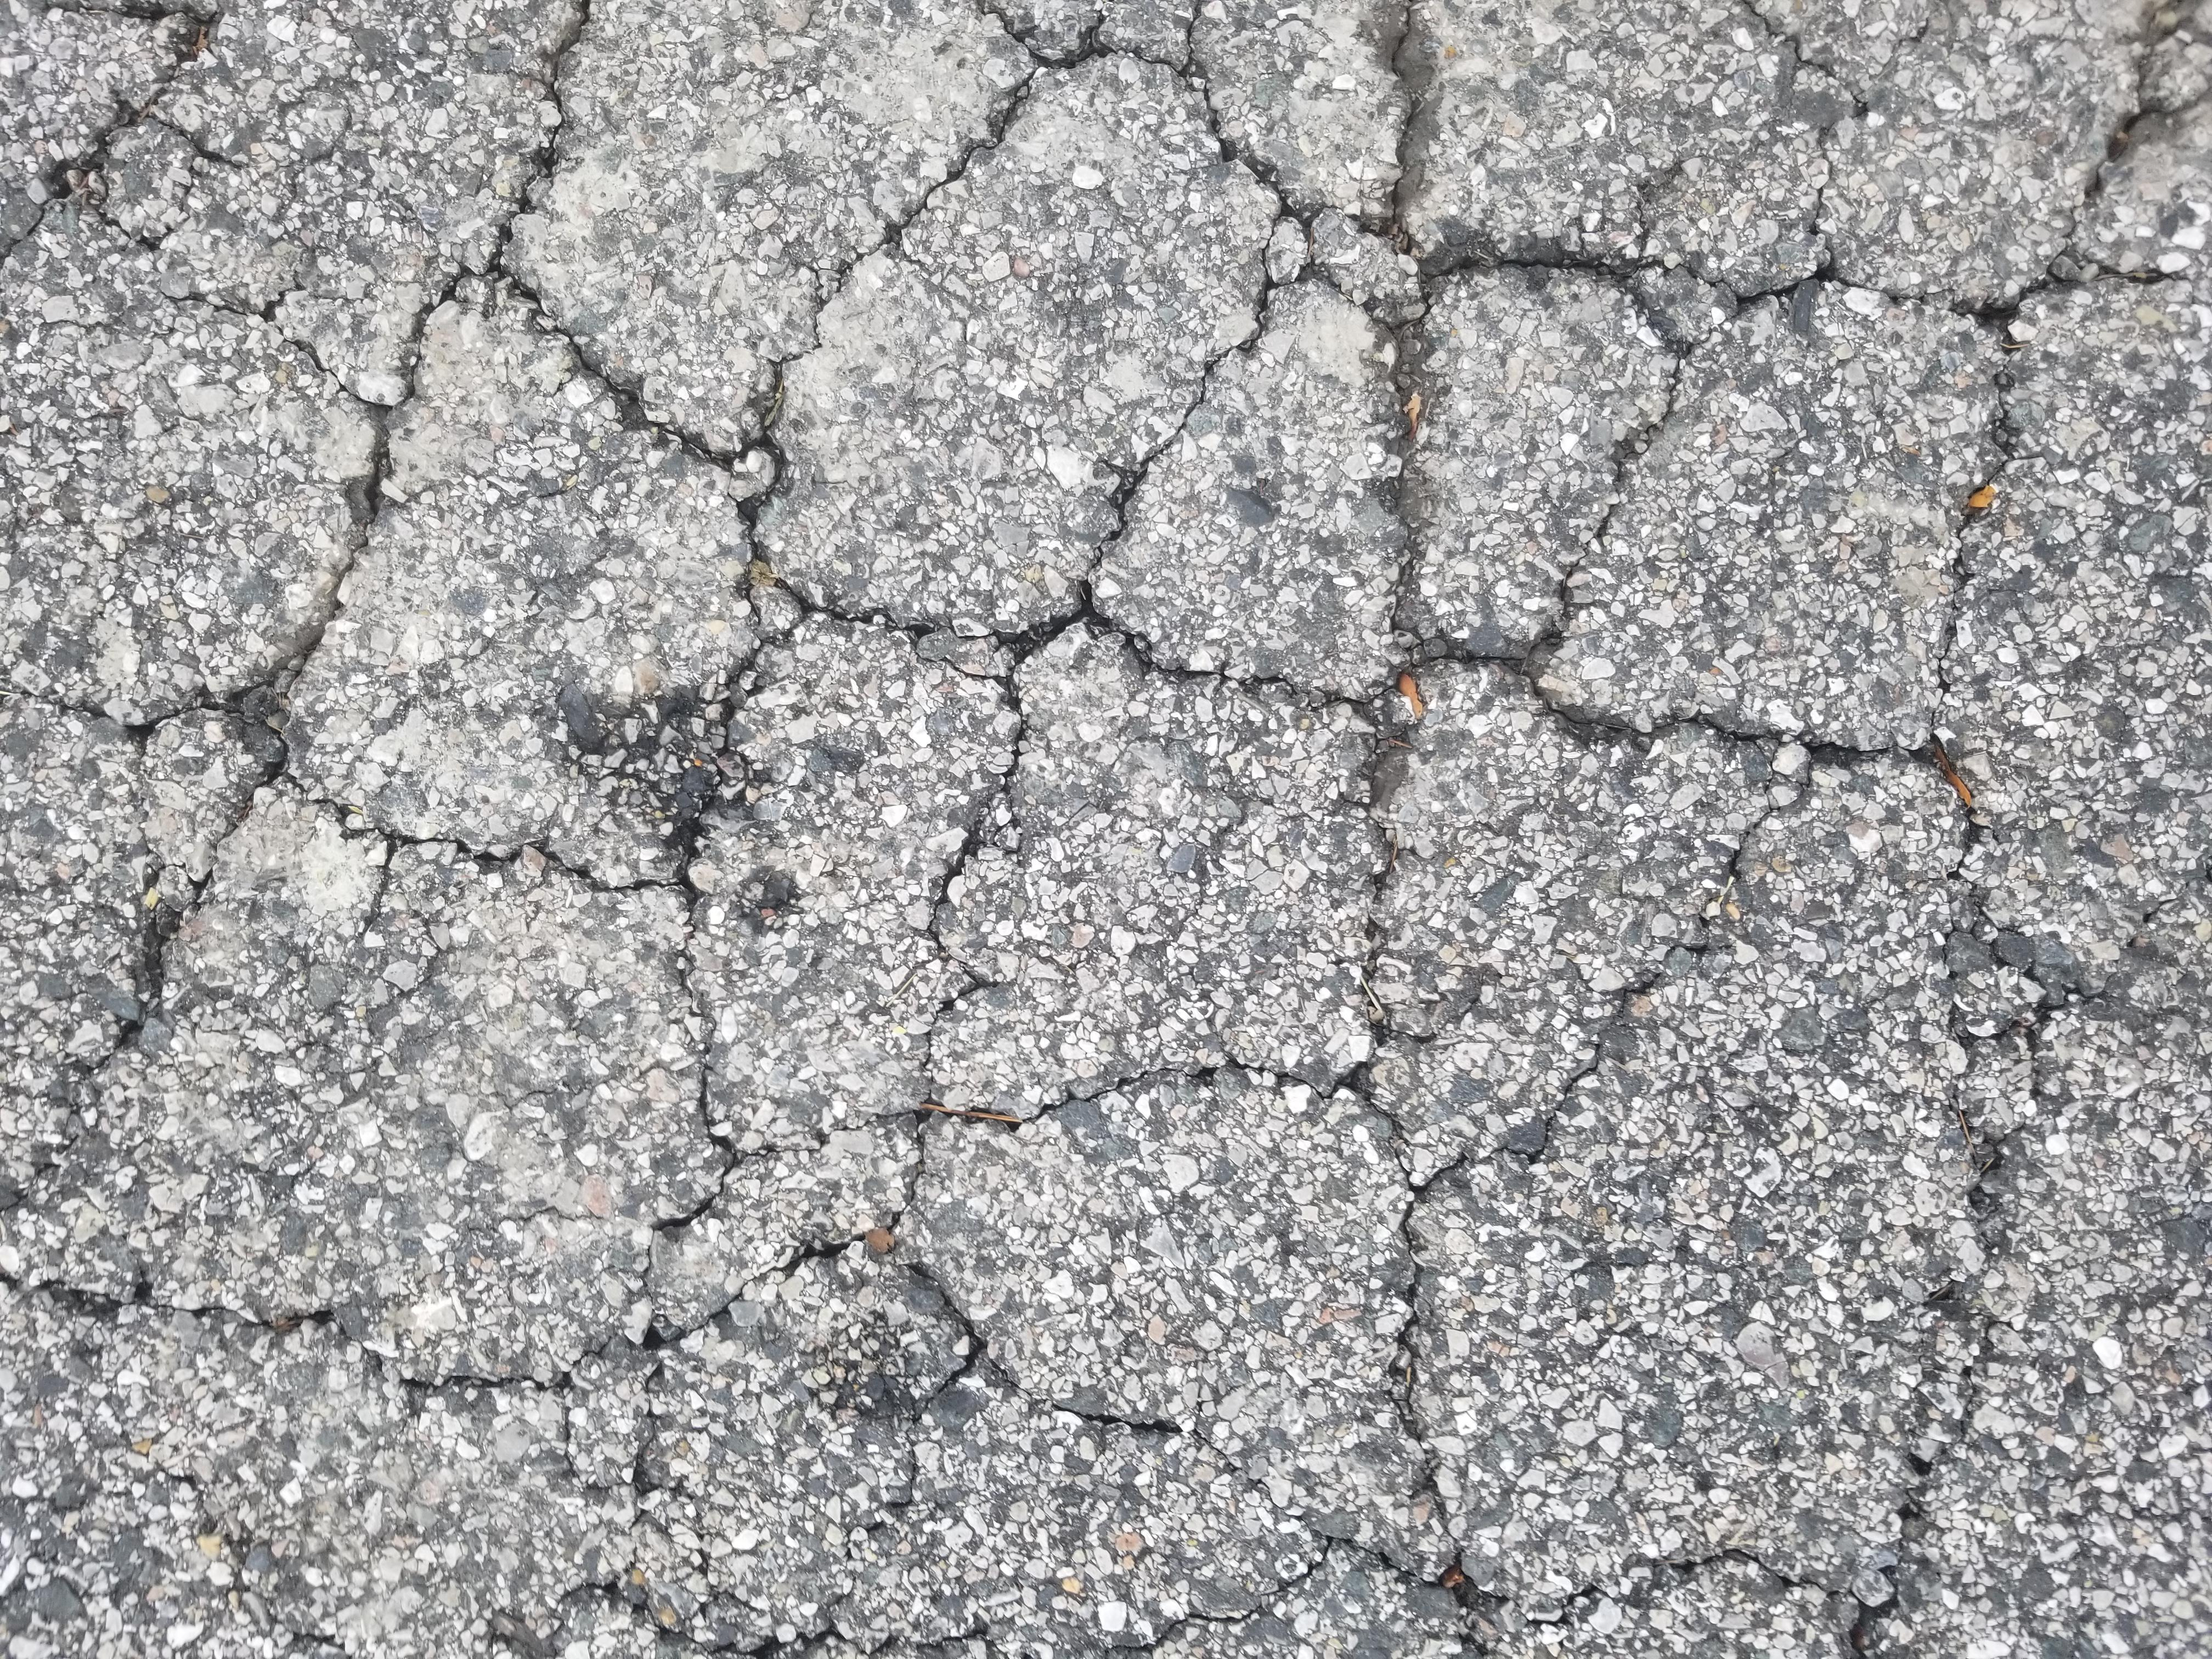alligator-crack: (23, 12, 2212, 1659)
